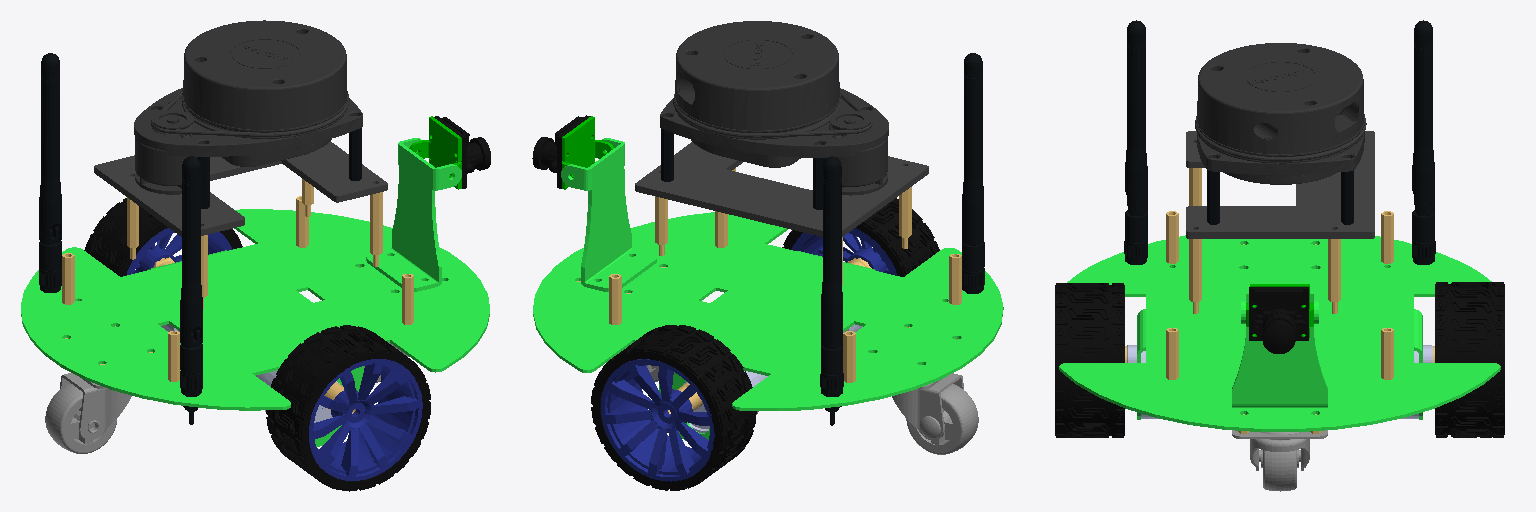
--- Facts derived from the render (not from the file) ---
3 views of the same robot in one strip: view 1: azimuth 30°, elevation 25°; view 2: azimuth 150°, elevation 25°; view 3: azimuth 270°, elevation 25° (orthographic).
Robot: Jetbot — 21 links, 20 joints (2 continuous, 18 fixed); root link base_footprint; default pose: all joints at 0.
Visible links, largest first — view 1: base_link, base_scan, antenna_link, wheel_right_rim, wheel_right_tire, upper_plate_link, bolt1_link, caster_back_link, wheel_left_tire, wheel_left_rim, camera_mount_link, camera_link (+1 smaller); view 2: base_link, base_scan, upper_plate_link, antenna_link, wheel_left_rim, wheel_left_tire, caster_back_link, bolt1_link, wheel_right_tire, wheel_right_rim, camera_mount_link, camera_link (+1 smaller); view 3: base_link, base_scan, antenna_link, wheel_left_tire, wheel_right_tire, upper_plate_link, bolt1_link, camera_link, caster_front_link, bolt2_link.
Boxes of the visible links, box(x1,y1,x2,y2) form: base_link: box(21, 138, 489, 446); base_scan: box(134, 20, 362, 194); antenna_link: box(39, 53, 202, 424); wheel_right_rim: box(309, 359, 422, 480); wheel_right_tire: box(266, 325, 430, 491); upper_plate_link: box(94, 141, 387, 236); bolt1_link: box(62, 179, 413, 381); caster_back_link: box(45, 373, 131, 453); wheel_left_tire: box(84, 198, 242, 276); wheel_left_rim: box(126, 228, 232, 275); camera_mount_link: box(409, 116, 461, 189); camera_link: box(434, 116, 490, 188); base_link: box(533, 138, 1003, 440); base_scan: box(660, 21, 888, 195); upper_plate_link: box(635, 142, 928, 236); antenna_link: box(820, 53, 984, 425); wheel_left_rim: box(601, 359, 714, 481); wheel_left_tire: box(591, 325, 756, 490); caster_back_link: box(892, 373, 978, 454); bolt1_link: box(577, 168, 961, 382); wheel_right_tire: box(782, 198, 939, 276); wheel_right_rim: box(791, 228, 897, 275); camera_mount_link: box(562, 116, 613, 189); camera_link: box(532, 115, 590, 188); base_link: box(1059, 235, 1500, 431); base_scan: box(1195, 43, 1366, 184); antenna_link: box(1124, 20, 1435, 264); wheel_left_tire: box(1435, 282, 1504, 437); wheel_right_tire: box(1055, 283, 1124, 437); upper_plate_link: box(1186, 131, 1374, 238); bolt1_link: box(1166, 168, 1393, 433); camera_link: box(1249, 287, 1308, 353); caster_front_link: box(1232, 430, 1327, 491); bolt2_link: box(1207, 170, 1353, 224).
Size in the robot's own frame: 0.2137 by 0.1878 by 0.1655 metres.
Meshes: 20 distinct files referenced, 18 mesh visuals loaded (18 binary STL); not drawn: 2 (reference not matched to a file when rendering).

The robot description file, URDF, robot "Jetbot":
<?xml version="1.0" encoding="utf-8"?>
<!-- This URDF was automatically created by SolidWorks to URDF Exporter! Originally created by Stephen Brawner ([email redacted]) 
     Commit Version: 1.6.0-4-g7f85cfe  Build Version: 1.6.7995.38578
     For more information, please see http://wiki.ros.org/sw_urdf_exporter -->
<robot
  name="Jetbot">
  
  <link name="base_footprint"/>

  <joint name="base_joint" type="fixed">
    <parent link="base_footprint"/>
    <child link="base_link"/>
    <origin xyz="0.0 0.0 0.05" rpy="0 0 0"/>
  </joint>


  <link
    name="base_link">
    <inertial>
      <origin
        xyz="0.00781963845778095 -7.35882317130787E-08 -0.000209926041797086"
        rpy="0 0 0" />
      <mass
        value="0.045584055118095" />
      <inertia
        ixx="7.90379546337164E-05"
        ixy="-6.67110738185195E-13"
        ixz="-2.39290720776838E-07"
        iyy="0.000115926497813917"
        iyz="-1.15368484324182E-10"
        izz="0.000189544079309469" />
    </inertial>
    <visual>
      <origin
        xyz="0 0 0"
        rpy="0 0 0" />
      <geometry>
        <mesh
          filename="package://jetbot_model/meshes/other_parts/base_link.STL" />
      </geometry>
      <material
        name="">
        <color
          rgba="0.223529411764706 1 0.352941176470588 1" />
      </material>
    </visual>
    <collision>
      <origin
        xyz="0 0 0"
        rpy="0 0 0" />
      <geometry>
        <mesh
          filename="package://jetbot_model/meshes/other_parts/base_link.STL" />
      </geometry>
    </collision>
  </link>
  <link
    name="wheel_right_link">
    <inertial>
      <origin
        xyz="1.98363002065771E-08 -8.50421726095174E-10 0.00586401160881991"
        rpy="0 0 0" />
      <mass
        value="0.00172858234067031" />
      <inertia
        ixx="6.56229488257871E-08"
        ixy="-4.0657627162479E-11"
        ixz="3.21252173208187E-14"
        iyy="6.48514677017681E-08"
        iyz="1.99615043771152E-15"
        izz="3.47684231742651E-08" />
    </inertial>
    <visual>
      <origin
        xyz="0 0 0"
        rpy="0 0 0" />
      <geometry>
        <mesh
          filename="package://jetbot_model/meshes/wheels/wheel_right_link.STL" />
      </geometry>
      <material
        name="">
        <color
          rgba="0.952941176470588 0.796078431372549 0.486274509803922 1" />
      </material>
    </visual>
    <collision>
      <origin
        xyz="0 0 0"
        rpy="0 0 0" />
      <geometry>
        <mesh
          filename="package://jetbot_model/meshes/wheels/wheel_right_link.STL" />
      </geometry>
    </collision>
  </link>
  <joint
    name="wheel_right_joint"
    type="continuous">
    <origin
      xyz="0 -0.0796 -0.0149998499189951"
      rpy="-1.57079632679489 0 0" />
    <parent
      link="base_link" />
    <child
      link="wheel_right_link" />
    <axis
      xyz="0 0 1" />
    <limit
      lower="0"
      upper="0"
      effort="0"
      velocity="0" />
  </joint>
  <link
    name="wheel_right_rim">
    <inertial>
      <origin
        xyz="-5.4423268058823E-08 -3.02317271563823E-08 -0.0013175684688612"
        rpy="0 0 0" />
      <mass
        value="0.0150430722977072" />
      <inertia
        ixx="5.42837949690631E-06"
        ixy="3.84011877778841E-12"
        ixz="-6.00504131491743E-12"
        iyy="5.42837483963373E-06"
        iyz="-3.30832951882215E-12"
        izz="8.62999669450023E-06" />
    </inertial>
    <visual>
      <origin
        xyz="0 0 0"
        rpy="0 0 0" />
      <geometry>
        <mesh
          filename="package://jetbot_model/meshes/wheels/wheel_right_rim.STL" />
      </geometry>
      <material
        name="">
        <color
          rgba="0.188235294117647 0.231372549019608 0.588235294117647 1" />
      </material>
    </visual>
    <collision>
      <origin
        xyz="0 0 0"
        rpy="0 0 0" />
      <geometry>
        <mesh
          filename="package://jetbot_model/meshes/wheels/wheel_right_rim.STL" />
      </geometry>
    </collision>
  </link>
  <joint
    name="wheel_right_rim_joint"
    type="fixed">
    <origin
      xyz="0 0 0"
      rpy="0 0 0" />
    <parent
      link="wheel_right_link" />
    <child
      link="wheel_right_rim" />
    <axis
      xyz="0 0 0" />
  </joint>
  <link
    name="wheel_right_tire">
    <inertial>
      <origin
        xyz="2.82158362829299E-05 0.00140580379860784 0.000181962684636737"
        rpy="0 0 0" />
      <mass
        value="0.0254630899937217" />
      <inertia
        ixx="1.28912347647895E-05"
        ixy="7.07465873148456E-10"
        ixz="-9.06345483333125E-12"
        iyy="1.29264691304977E-05"
        iyz="-4.52275733373978E-10"
        izz="2.22597285939851E-05" />
    </inertial>
    <visual>
      <origin
        xyz="0 0 0"
        rpy="0 0 0" />
      <geometry>
        <mesh
          filename="package://jetbot_model/meshes/wheels/wheel_right_tire.STL" />
      </geometry>
      <material
        name="">
        <color
          rgba="0.0980392156862745 0.0980392156862745 0.0980392156862745 1" />
      </material>
    </visual>
    <collision>
      <origin
        xyz="0 0 0"
        rpy="0 0 0" />
      <geometry>
        <mesh
          filename="package://jetbot_model/meshes/wheels/wheel_right_tire.STL" />
      </geometry>
    </collision>
  </link>
  <joint
    name="wheel_right_tire_joint"
    type="fixed">
    <origin
      xyz="0 0 0"
      rpy="0 0 0" />
    <parent
      link="wheel_right_link" />
    <child
      link="wheel_right_tire" />
    <axis
      xyz="0 0 0" />
  </joint>
  <link
    name="wheel_left_link">
    <inertial>
      <origin
        xyz="2.3009393140816E-09 1.97207421781531E-08 -0.00586401160882002"
        rpy="0 0 0" />
      <mass
        value="0.00172858234067031" />
      <inertia
        ixx="6.48580948386293E-08"
        ixy="8.1986795876624E-11"
        ixz="-7.05727936679317E-15"
        iyy="6.56163216889261E-08"
        iyz="-3.14039638015827E-14"
        izz="3.47684231742651E-08" />
    </inertial>
    <visual>
      <origin
        xyz="0 0 0"
        rpy="0 0 0" />
      <geometry>
        <mesh
          filename="package://jetbot_model/meshes/wheels/wheel_left_link.STL" />
      </geometry>
      <material
        name="">
        <color
          rgba="0.952941176470588 0.796078431372549 0.486274509803922 1" />
      </material>
    </visual>
    <collision>
      <origin
        xyz="0 0 0"
        rpy="0 0 0" />
      <geometry>
        <mesh
          filename="package://jetbot_model/meshes/wheels/wheel_left_link.STL" />
      </geometry>
    </collision>
  </link>
  <joint
    name="wheel_left_joint"
    type="continuous">
    <origin
      xyz="0 0.0796 -0.0149998499189951"
      rpy="-1.5707963267949 0 0" />
    <parent
      link="base_link" />
    <child
      link="wheel_left_link" />
    <axis
      xyz="0 0 1" />
    <limit
      lower="0"
      upper="0"
      effort="0"
      velocity="0" />
  </joint>
  <link
    name="wheel_left_rim">
    <inertial>
      <origin
        xyz="-3.84671055148056E-08 -4.89502935754893E-08 0.00131756846886109"
        rpy="0 0 0" />
      <mass
        value="0.0150430722977072" />
      <inertia
        ixx="5.42837615703599E-06"
        ixy="4.37566736479211E-12"
        ixz="4.21736389882695E-12"
        iyy="5.4283781795041E-06"
        iyz="5.40549773271856E-12"
        izz="8.62999669450022E-06" />
    </inertial>
    <visual>
      <origin
        xyz="0 0 0"
        rpy="0 0 0" />
      <geometry>
        <mesh
          filename="package://jetbot_model/meshes/wheels/wheel_left_rim.STL" />
      </geometry>
      <material
        name="">
        <color
          rgba="0.188235294117647 0.231372549019608 0.588235294117647 1" />
      </material>
    </visual>
    <collision>
      <origin
        xyz="0 0 0"
        rpy="0 0 0" />
      <geometry>
        <mesh
          filename="package://jetbot_model/meshes/wheels/wheel_left_rim.STL" />
      </geometry>
    </collision>
  </link>
  <joint
    name="wheel_left_rim_joint"
    type="fixed">
    <origin
      xyz="0 0 0"
      rpy="0 0 0" />
    <parent
      link="wheel_left_link" />
    <child
      link="wheel_left_rim" />
    <axis
      xyz="0 0 0" />
  </joint>
  <link
    name="wheel_left_tire">
    <inertial>
      <origin
        xyz="0.00139253923871222 -0.000194717544789592 -0.000181962684636799"
        rpy="0 0 0" />
      <mass
        value="0.0254630899937217" />
      <inertia
        ixx="1.29258070859562E-05"
        ixy="-4.83620972217383E-09"
        ixz="4.48006012970371E-10"
        iyy="1.28918968093311E-05"
        iyz="-6.26585791959336E-11"
        izz="2.22597285939851E-05" />
    </inertial>
    <visual>
      <origin
        xyz="0 0 0"
        rpy="0 0 0" />
      <geometry>
        <mesh
          filename="package://jetbot_model/meshes/wheels/wheel_left_tire.STL" />
      </geometry>
      <material
        name="">
        <color
          rgba="0.0980392156862745 0.0980392156862745 0.0980392156862745 1" />
      </material>
    </visual>
    <collision>
      <origin
        xyz="0 0 0"
        rpy="0 0 0" />
      <geometry>
        <mesh
          filename="package://jetbot_model/meshes/wheels/wheel_left_tire.STL" />
      </geometry>
    </collision>
  </link>
  <joint
    name="wheel_left_tire_joint"
    type="fixed">
    <origin
      xyz="0 0 0"
      rpy="0 0 0" />
    <parent
      link="wheel_left_link" />
    <child
      link="wheel_left_tire" />
    <axis
      xyz="0 0 0" />
  </joint>
  <link
    name="camera_mount_link">
    <inertial>
      <origin
        xyz="0.0911446606387492 -5.00000000013164E-05 0.0475547495822917"
        rpy="0 0 0" />
      <mass
        value="0.00369253564371622" />
      <inertia
        ixx="7.11782812945527E-07"
        ixy="-3.32390099825911E-21"
        ixz="1.1528802234911E-23"
        iyy="7.28653732283989E-08"
        iyz="1.79708825096588E-22"
        izz="7.14964958537606E-07" />
    </inertial>
    <visual>
      <origin
        xyz="0 0 0"
        rpy="0 0 0" />
      <geometry>
        <mesh
          filename="package://jetbot_model/meshes/csi/camera_mount_link.STL" />
      </geometry>
      <material
        name="">
        <color
          rgba="0 0.8 0 1" />
      </material>
    </visual>
    <collision>
      <origin
        xyz="0 0 0"
        rpy="0 0 0" />
      <geometry>
        <mesh
          filename="package://jetbot_model/meshes/csi/camera_mount_link.STL" />
      </geometry>
    </collision>
  </link>
  <joint
    name="camera_mount_joint"
    type="fixed">
    <origin
      xyz="0 0 0"
      rpy="0 0 0" />
    <parent
      link="base_link" />
    <child
      link="camera_mount_link" />
    <axis
      xyz="0 0 0" />
  </joint>
  <link
    name="camera_link">
    <inertial>
      <origin
        xyz="0.104505569284287 0.00251089945216483 0.0474874189920585"
        rpy="0 0 0" />
      <mass
        value="0.0294229179644187" />
      <inertia
        ixx="2.18815235786117E-05"
        ixy="2.75098516448229E-07"
        ixz="7.68689291749069E-11"
        iyy="1.35440746294821E-06"
        iyz="1.72750913510838E-09"
        izz="2.09152095144145E-05" />
    </inertial>
    <visual>
      <origin
        xyz="0 0 0"
        rpy="0 0 0" />
      <geometry>
        <mesh
          filename="package://jetbot_model/meshes/csi/camera_link.STL" />
      </geometry>
      <material
        name="">
        <color
          rgba="0.1 0.1 0.1 1" />
      </material>
    </visual>
    <collision>
      <origin
        xyz="0 0 0"
        rpy="0 0 0" />
      <geometry>
        <mesh
          filename="package://jetbot_model/meshes/csi/camera_link.STL" />
      </geometry>
    </collision>
  </link>
  <joint
    name="camera_joint"
    type="fixed">
    <origin
      xyz="0 0 0"
      rpy="0 0 0" />
    <parent
      link="camera_mount_link" />
    <child
      link="camera_link" />
    <axis
      xyz="0 0 0" />
  </joint>
  <link
    name="caster_back_link">
    <inertial>
      <origin
        xyz="-0.00973608929282141 0.0160138996536298 0.000112305501830591"
        rpy="0 0 0" />
      <mass
        value="0.0122543299069677" />
      <inertia
        ixx="1.03465897444937E-06"
        ixy="4.08895923420779E-08"
        ixz="2.41090924462367E-13"
        iyy="1.24920234693942E-06"
        iyz="-2.2498975199297E-12"
        izz="1.2900058431033E-06" />
    </inertial>
    <visual>
      <origin
        xyz="0 0 0"
        rpy="0 0 0" />
      <geometry>
        <mesh
          filename="package://jetbot_model/meshes/other_parts/caster_back_link.STL" />
      </geometry>
      <material
        name="">
        <color
          rgba="0.627450980392157 0.627450980392157 0.627450980392157 1" />
      </material>
    </visual>
    <collision>
      <origin
        xyz="0 0 0"
        rpy="0 0 0" />
      <geometry>
        <mesh
          filename="package://jetbot_model/meshes/other_parts/caster_back_link.STL" />
      </geometry>
    </collision>
  </link>
  <joint
    name="caster_back_joint"
    type="fixed">
    <origin
      xyz="-0.072 0 -0.0103157534698361"
      rpy="-1.5707963267949 0 0" />
    <parent
      link="base_link" />
    <child
      link="caster_back_link" />
    <axis
      xyz="0 0 0" />
  </joint>
  <link
    name="caster_front_link">
    <inertial>
      <origin
        xyz="-0.00973608929282145 0.0136318109633328 0.00011230550183057"
        rpy="0 0 0" />
      <mass
        value="0.0122543299069677" />
      <inertia
        ixx="1.03465897444937E-06"
        ixy="4.08895923420787E-08"
        ixz="2.41090924810355E-13"
        iyy="1.24920234693941E-06"
        iyz="-2.24989751966103E-12"
        izz="1.29000584310329E-06" />
    </inertial>
    <visual>
      <origin
        xyz="0 0 0"
        rpy="0 0 0" />
      <geometry>
        <mesh
          filename="package://jetbot_model/meshes/other_parts/caster_front_link.STL" />
      </geometry>
      <material
        name="">
        <color
          rgba="0.627450980392157 0.627450980392157 0.627450980392157 1" />
      </material>
    </visual>
    <collision>
      <origin
        xyz="0 0 0"
        rpy="0 0 0" />
      <geometry>
        <mesh
          filename="package://jetbot_model/meshes/other_parts/caster_front_link.STL" />
      </geometry>
    </collision>
  </link>
  <joint
    name="caster_front_joint"
    type="fixed">
    <origin
      xyz="0.072 0 -0.0126978421601332"
      rpy="-1.5707963267949 0 0" />
    <parent
      link="base_link" />
    <child
      link="caster_front_link" />
    <axis
      xyz="0 0 0" />
  </joint>
  <link
    name="imu_link">
    <inertial>
      <origin
        xyz="0.00785413895950092 0.000589850419601447 -0.00363505947193948"
        rpy="0 0 0" />
      <mass
        value="0.0511068131705108" />
      <inertia
        ixx="3.02554869448374E-05"
        ixy="-6.81147489939493E-08"
        ixz="4.3124398785099E-10"
        iyy="3.79539557275355E-05"
        iyz="-1.32997366822506E-10"
        izz="6.69860000874932E-05" />
    </inertial>
    <visual>
      <origin
        xyz="0 0 0"
        rpy="0 0 0" />
      <geometry>
        <mesh
          filename="package://jetbot_model/meshes/other_parts/imu_link.STL" />
      </geometry>
      <material
        name="">
        <color
          rgba="0.5 0.5 0.5 1" />
      </material>
    </visual>
    <collision>
      <origin
        xyz="0 0 0"
        rpy="0 0 0" />
      <geometry>
        <mesh
          filename="package://jetbot_model/meshes/other_parts/imu_link.STL" />
      </geometry>
    </collision>
  </link>
  <joint
    name="imu_joint"
    type="fixed">
    <origin
      xyz="-0.00987996130762421 -0.000612791192577962 0.02311148"
      rpy="0 0 0" />
    <parent
      link="base_link" />
    <child
      link="imu_link" />
    <axis
      xyz="0 0 0" />
  </joint>
  <link
    name="base_scan">
    <inertial>
      <origin
        xyz="-0.013480243056544 0.000481284255951939 -0.00102869936495666"
        rpy="0 0 0" />
      <mass
        value="0.0634432857550415" />
      <inertia
        ixx="1.68383298504221E-05"
        ixy="-1.0448046286551E-07"
        ixz="4.28825686069912E-07"
        iyy="2.10729825490332E-05"
        iyz="-9.43318165957986E-09"
        izz="3.56809250260432E-05" />
    </inertial>
    <visual>
      <origin
        xyz="0 0 0"
        rpy="0 0 0" />
      <geometry>
        <mesh
          filename="package://jetbot_model/meshes/other_parts/base_scan.STL" />
      </geometry>
      <material
        name="">
        <color
          rgba="0.250980392156863 0.250980392156863 0.250980392156863 1" />
      </material>
    </visual>
    <collision>
      <origin
        xyz="0 0 0"
        rpy="0 0 0" />
      <geometry>
        <mesh
          filename="package://jetbot_model/meshes/other_parts/base_scan.STL" />
      </geometry>
    </collision>
  </link>
  <joint
    name="scan_joint"
    type="fixed">
    <origin
      xyz="0.005050049260789 0.000300068757988995 0.092186480000001"
      rpy="0 0 0" />
    <parent
      link="base_link" />
    <child
      link="base_scan" />
    <axis
      xyz="0 0 0" />
  </joint>
  <link
    name="left_motor_link">
    <inertial>
      <origin
        xyz="-2.95081696598254E-07 0.0340253884275023 -0.0216175641159498"
        rpy="0 0 0" />
      <mass
        value="0.0142497272964593" />
      <inertia
        ixx="1.363828934402E-06"
        ixy="-1.47318833570828E-11"
        ixz="-3.04947037598095E-10"
        iyy="2.22876633823434E-06"
        iyz="7.05904980580848E-09"
        izz="1.38872041914448E-06" />
    </inertial>
    <visual>
      <origin
        xyz="0 0 0"
        rpy="0 0 0" />
      <geometry>
        <mesh
          filename="package://jetbot_model/meshes/other_parts/left_motor_link.STL" />
      </geometry>
      <material
        name="">
        <color
          rgba="0.792156862745098 0.819607843137255 0.933333333333333 1" />
      </material>
    </visual>
    <collision>
      <origin
        xyz="0 0 0"
        rpy="0 0 0" />
      <geometry>
        <mesh
          filename="package://jetbot_model/meshes/other_parts/left_motor_link.STL" />
      </geometry>
    </collision>
  </link>
  <joint
    name="left_motor_joint"
    type="fixed">
    <origin
      xyz="0 0 0"
      rpy="0 0 0" />
    <parent
      link="base_link" />
    <child
      link="left_motor_link" />
    <axis
      xyz="0 0 0" />
  </joint>
  <link
    name="right_motor_link">
    <inertial>
      <origin
        xyz="2.9508169580722E-07 -0.0340253884275023 -0.0216175641159498"
        rpy="0 0 0" />
      <mass
        value="0.0142497272964593" />
      <inertia
        ixx="1.36382893440199E-06"
        ixy="-1.4731883386706E-11"
        ixz="3.0494703759845E-10"
        iyy="2.22876633823434E-06"
        iyz="-7.05904980580746E-09"
        izz="1.38872041914447E-06" />
    </inertial>
    <visual>
      <origin
        xyz="0 0 0"
        rpy="0 0 0" />
      <geometry>
        <mesh
          filename="package://jetbot_model/meshes/other_parts/right_motor_link.STL" />
      </geometry>
      <material
        name="">
        <color
          rgba="0.792156862745098 0.819607843137255 0.933333333333333 1" />
      </material>
    </visual>
    <collision>
      <origin
        xyz="0 0 0"
        rpy="0 0 0" />
      <geometry>
        <mesh
          filename="package://jetbot_model/meshes/other_parts/right_motor_link.STL" />
      </geometry>
    </collision>
  </link>
  <joint
    name="right_motor_joint"
    type="fixed">
    <origin
      xyz="0 0 0"
      rpy="0 0 0" />
    <parent
      link="base_link" />
    <child
      link="right_motor_link" />
    <axis
      xyz="0 0 0" />
  </joint>
  <link
    name="upper_plate_link">
    <inertial>
      <origin
        xyz="-0.00767109086663368 0.00605296729060913 0.0621864800000008"
        rpy="0 0 0" />
      <mass
        value="0.017501498901108" />
      <inertia
        ixx="8.93579854534511E-06"
        ixy="-2.74359099373368E-07"
        ixz="4.81575673334949E-19"
        iyy="1.85512486025031E-05"
        iyz="7.07344062963383E-21"
        izz="2.74607948994966E-05" />
    </inertial>
    <visual>
      <origin
        xyz="0 0 0"
        rpy="0 0 0" />
      <geometry>
        <mesh
          filename="package://jetbot_model/meshes/other_parts/upper_plate_link.STL" />
      </geometry>
      <material
        name="">
        <color
          rgba="0.3 0.3 0.3 1" />
      </material>
    </visual>
    <collision>
      <origin
        xyz="0 0 0"
        rpy="0 0 0" />
      <geometry>
        <mesh
          filename="package://jetbot_model/meshes/other_parts/upper_plate_link.STL" />
      </geometry>
    </collision>
  </link>
  <joint
    name="upper_plate_joint"
    type="fixed">
    <origin
      xyz="0 0 0"
      rpy="0 0 0" />
    <parent
      link="base_link" />
    <child
      link="upper_plate_link" />
    <axis
      xyz="0 0 0" />
  </joint>
  <link
    name="antenna_link">
    <inertial>
      <origin
        xyz="-0.0660028995154912 4.40577031377808E-05 0.046811826812688"
        rpy="0 0 0" />
      <mass
        value="0.0134623075785536" />
      <inertia
        ixx="5.56374948010225E-06"
        ixy="-1.03911483629354E-10"
        ixz="-1.35565928440356E-09"
        iyy="5.56559707819264E-06"
        iyz="2.22326930039963E-08"
        izz="1.27639331293959E-07" />
    </inertial>
    <visual>
      <origin
        xyz="0 0 0"
        rpy="0 0 0" />
      <geometry>
        <mesh
          filename="package://jetbot_model/meshes/other_parts/antenna_link.STL" />
      </geometry>
      <material
        name="">
        <color
          rgba="0.0941176470588235 0.109803921568627 0.12156862745098 1" />
      </material>
    </visual>
    <collision>
      <origin
        xyz="0 0 0"
        rpy="0 0 0" />
      <geometry>
        <mesh
          filename="package://jetbot_model/meshes/other_parts/antenna_link.STL" />
      </geometry>
    </collision>
  </link>
  <joint
    name="antenna_joint"
    type="fixed">
    <origin
      xyz="0 0 0"
      rpy="0 0 0" />
    <parent
      link="base_link" />
    <child
      link="antenna_link" />
    <axis
      xyz="0 0 0" />
  </joint>
  <link
    name="bolt1_link">
    <inertial>
      <origin
        xyz="-0.00455766525705633 -0.00317236412008241 0.0247802088927017"
        rpy="0 0 0" />
      <mass
        value="0.00350899316323701" />
      <inertia
        ixx="2.155192655442E-07"
        ixy="9.56888278033086E-24"
        ixz="-1.90766612358315E-21"
        iyy="2.155192655442E-07"
        iyz="-1.87384696573834E-23"
        izz="1.35592340647674E-08" />
    </inertial>
    <visual>
      <origin
        xyz="0 0 0"
        rpy="0 0 0" />
      <geometry>
        <mesh
          filename="package://jetbot_model/meshes/other_parts/bolt1_link.STL" />
      </geometry>
      <material
        name="">
        <color
          rgba="0.952941176470588 0.796078431372549 0.486274509803922 1" />
      </material>
    </visual>
    <collision>
      <origin
        xyz="0 0 0"
        rpy="0 0 0" />
      <geometry>
        <mesh
          filename="package://jetbot_model/meshes/other_parts/bolt1_link.STL" />
      </geometry>
    </collision>
  </link>
  <joint
    name="bolt1_joint"
    type="fixed">
    <origin
      xyz="0 0 0"
      rpy="0 0 0" />
    <parent
      link="base_link" />
    <child
      link="bolt1_link" />
    <axis
      xyz="0 0 0" />
  </joint>
  <link
    name="bolt2_link">
    <inertial>
      <origin
        xyz="-0.00194995073921093 0.000300068757989755 0.07618648"
        rpy="0 0 0" />
      <mass
        value="0.00138168957720949" />
      <inertia
        ixx="7.45830222388665E-08"
        ixy="3.22236047148893E-24"
        ixz="-2.87219091256268E-24"
        iyy="7.45830222388665E-08"
        iyz="-7.36261831006086E-24"
        izz="5.24004685174395E-09" />
    </inertial>
    <visual>
      <origin
        xyz="0 0 0"
        rpy="0 0 0" />
      <geometry>
        <mesh
          filename="package://jetbot_model/meshes/other_parts/bolt2_link.STL" />
      </geometry>
      <material
        name="">
        <color
          rgba="0.0941176470588235 0.109803921568627 0.12156862745098 1" />
      </material>
    </visual>
    <collision>
      <origin
        xyz="0 0 0"
        rpy="0 0 0" />
      <geometry>
        <mesh
          filename="package://jetbot_model/meshes/other_parts/bolt2_link.STL" />
      </geometry>
    </collision>
  </link>
  <joint
    name="bolt2_joint"
    type="fixed">
    <origin
      xyz="0 0 0"
      rpy="0 0 0" />
    <parent
      link="base_link" />
    <child
      link="bolt2_link" />
    <axis
      xyz="0 0 0" />
  </joint>
  <link
    name="nano_link">
    <inertial>
      <origin
        xyz="-0.00451688299579642 -0.00383913355729881 0.0407445974225003"
        rpy="0 0 0" />
      <mass
        value="0.0559886683886946" />
      <inertia
        ixx="1.11286118138229E-05"
        ixy="-6.96076101617625E-09"
        ixz="1.44681908116963E-07"
        iyy="2.01937826489502E-05"
        iyz="-1.30775142928514E-08"
        izz="2.98989437667499E-05" />
    </inertial>
    <visual>
      <origin
        xyz="0 0 0"
        rpy="0 0 0" />
      <geometry>
        <mesh
          filename="package://jetbot_model/meshes/other_parts/nano_link.STL" />
      </geometry>
      <material
        name="">
        <color
          rgba="0.4 0.4 0.4 1" />
      </material>
    </visual>
    <collision>
      <origin
        xyz="0 0 0"
        rpy="0 0 0" />
      <geometry>
        <mesh
          filename="package://jetbot_model/meshes/other_parts/nano_link.STL" />
      </geometry>
    </collision>
  </link>
  <joint
    name="nano_joint"
    type="fixed">
    <origin
      xyz="0 0 0"
      rpy="0 0 0" />
    <parent
      link="base_link" />
    <child
      link="nano_link" />
    <axis
      xyz="0 0 0" />
  </joint>
</robot>
